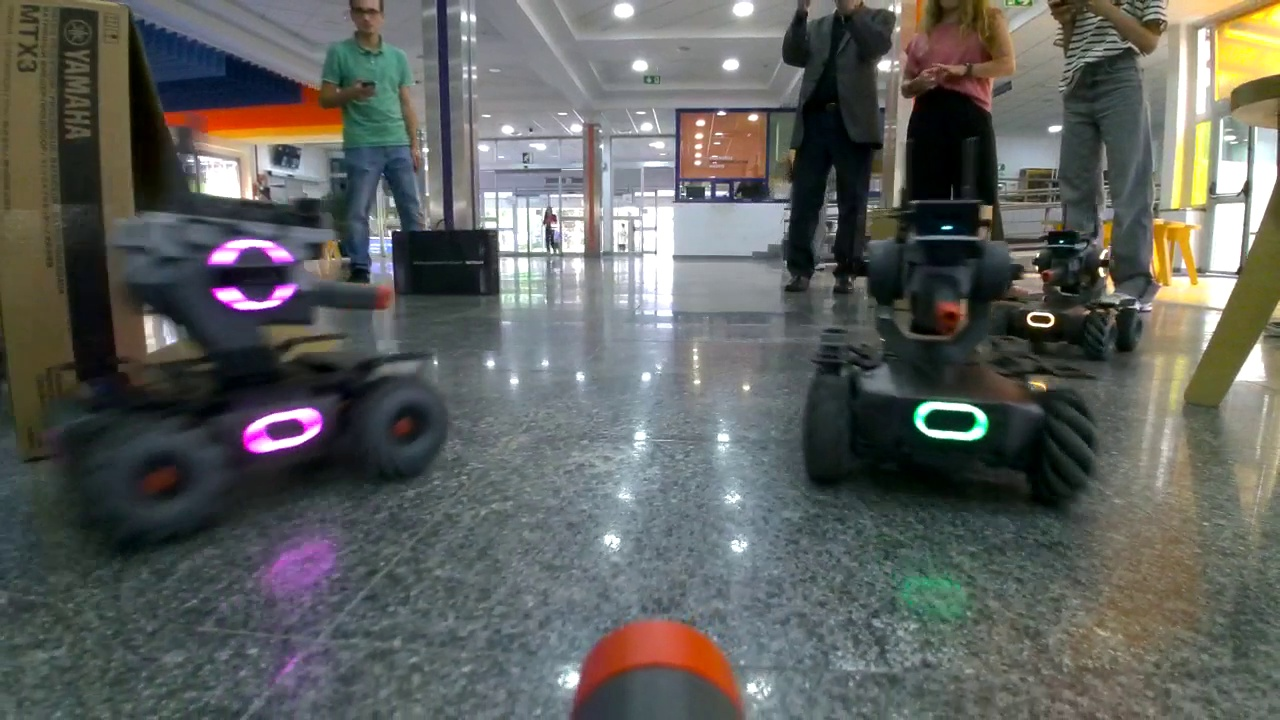robot: (46, 192, 462, 557), (801, 203, 1103, 514), (1000, 229, 1145, 363)
